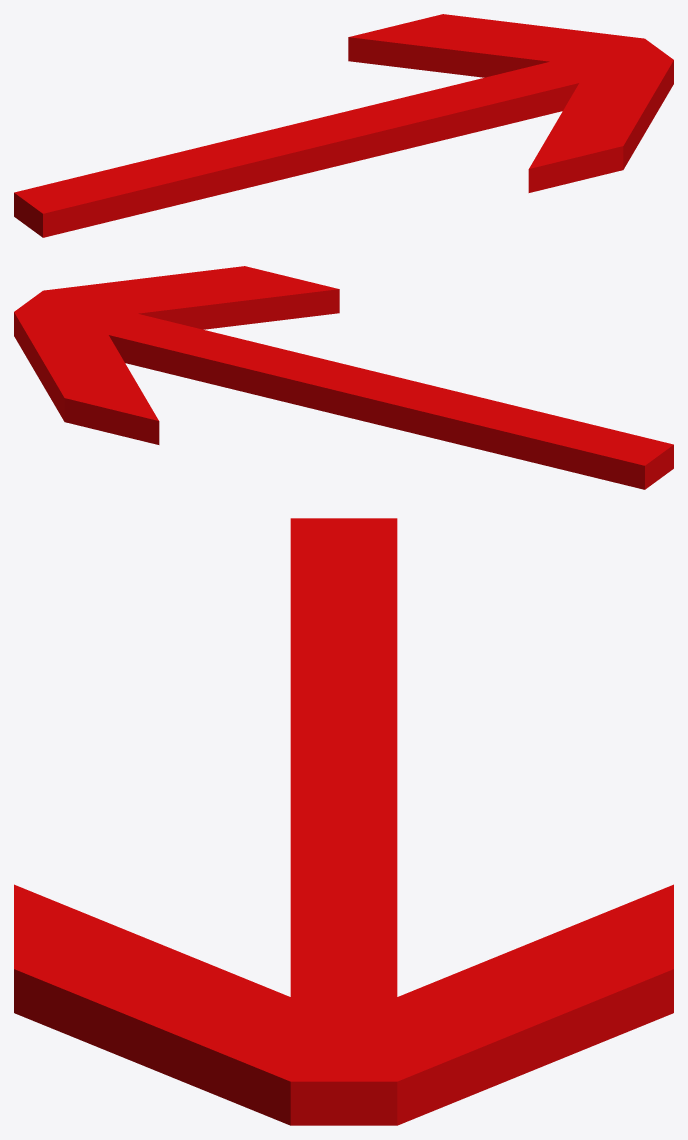
Rendered from ArrowPath.glb.
3 renders of one model, top to bottom at view 1: azimuth 30°, elevation 25°; view 2: azimuth 150°, elevation 25°; view 3: azimuth 270°, elevation 25°, orthographic. The views are drawn at different scales.
Parts seen in each view (by area): view 1: Cube; view 2: Cube; view 3: Cube.
Part boxes in pixels (bbox=[...]): Cube: bbox=[14, 14, 673, 237]; Cube: bbox=[14, 266, 673, 489]; Cube: bbox=[14, 518, 673, 1125].
Size of the model in its own units: 0.4852 by 0.0177 by 0.2402.
